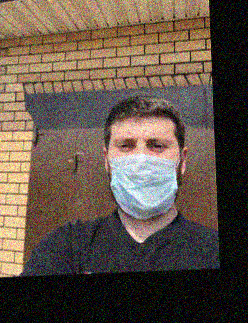with_mask: (108, 125, 181, 221)
